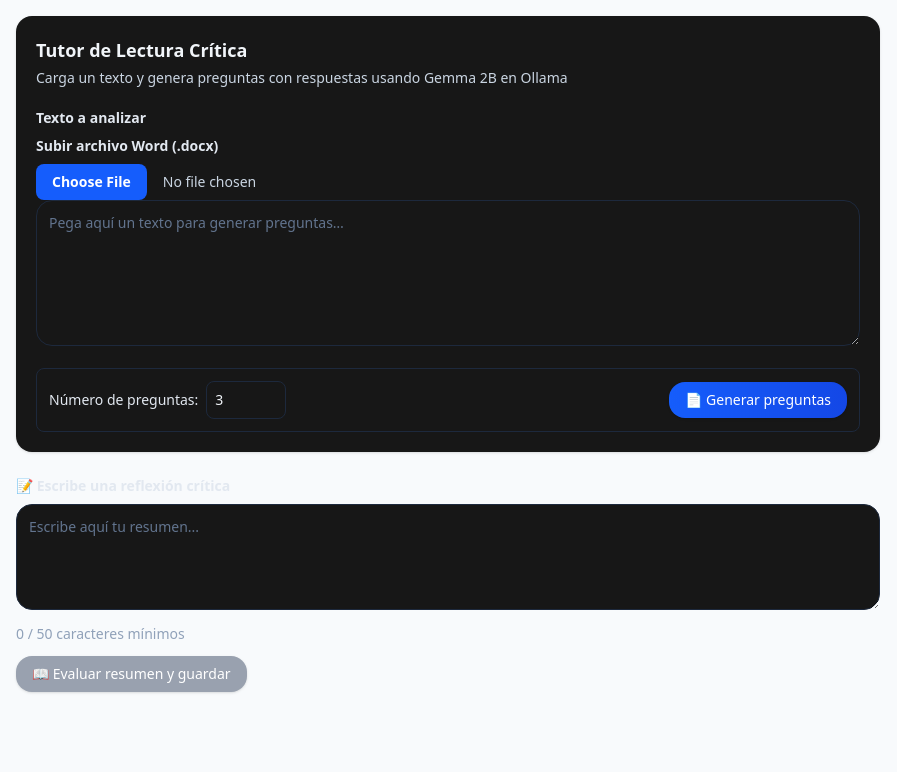
Test: ✅ Tutor Page - cobertura completa de flujos y errores › muestra error si /api/generate-qa responde con ok:false
Type "Texto mínimo para probar error en generate-qa" into the text box with placeholder "Pega aquí un texto para generar preguntas…" at (448, 273), box [36,200,860,346]
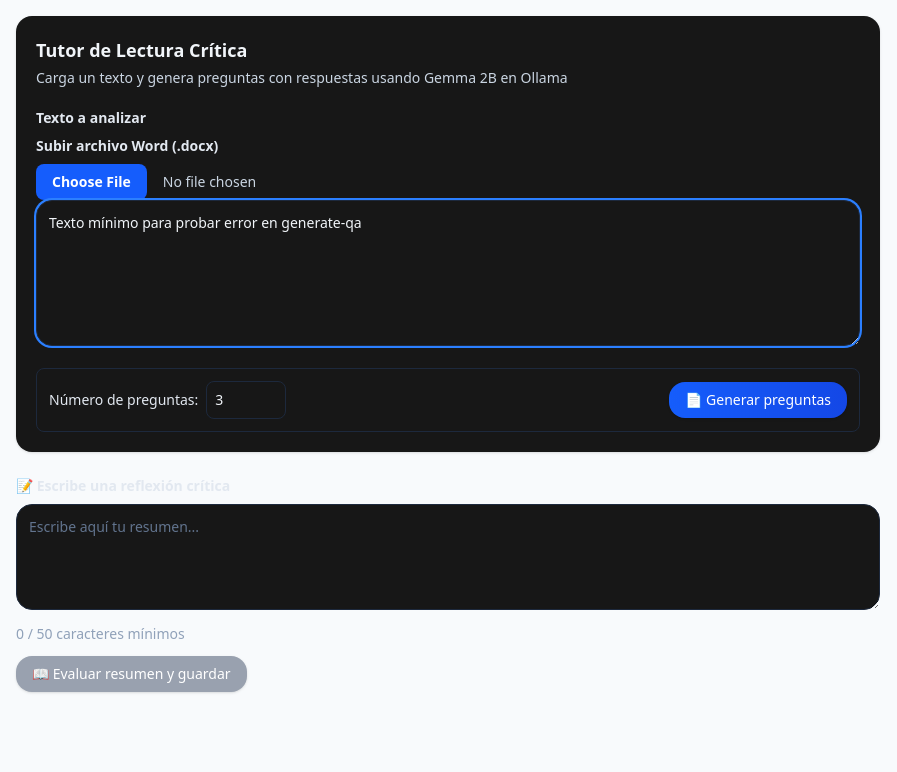
Click the button "📄 Generar preguntas" at (758, 400), box [669,382,847,418]
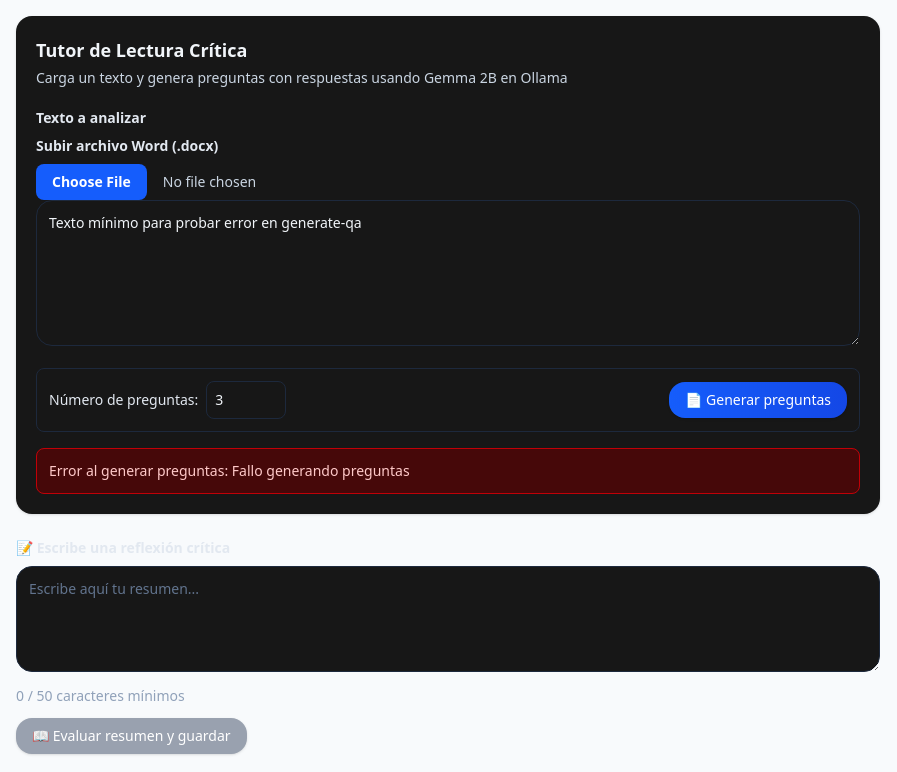
Now the text "Error al generar preguntas: Fallo generando preguntas" is shown, box [49,461,410,480]
